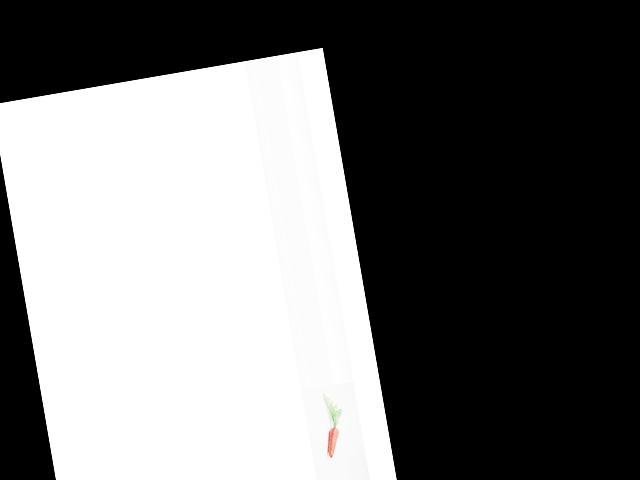carrot: (318, 424, 344, 461)
